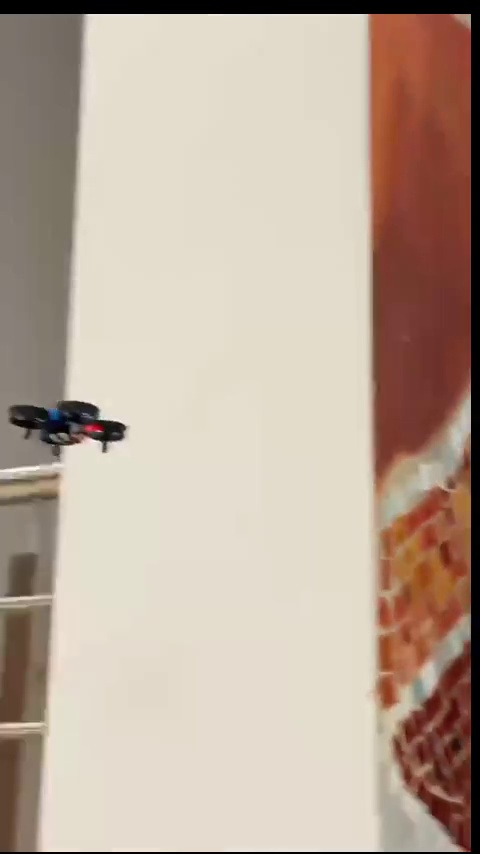drone: (9, 397, 121, 456)
